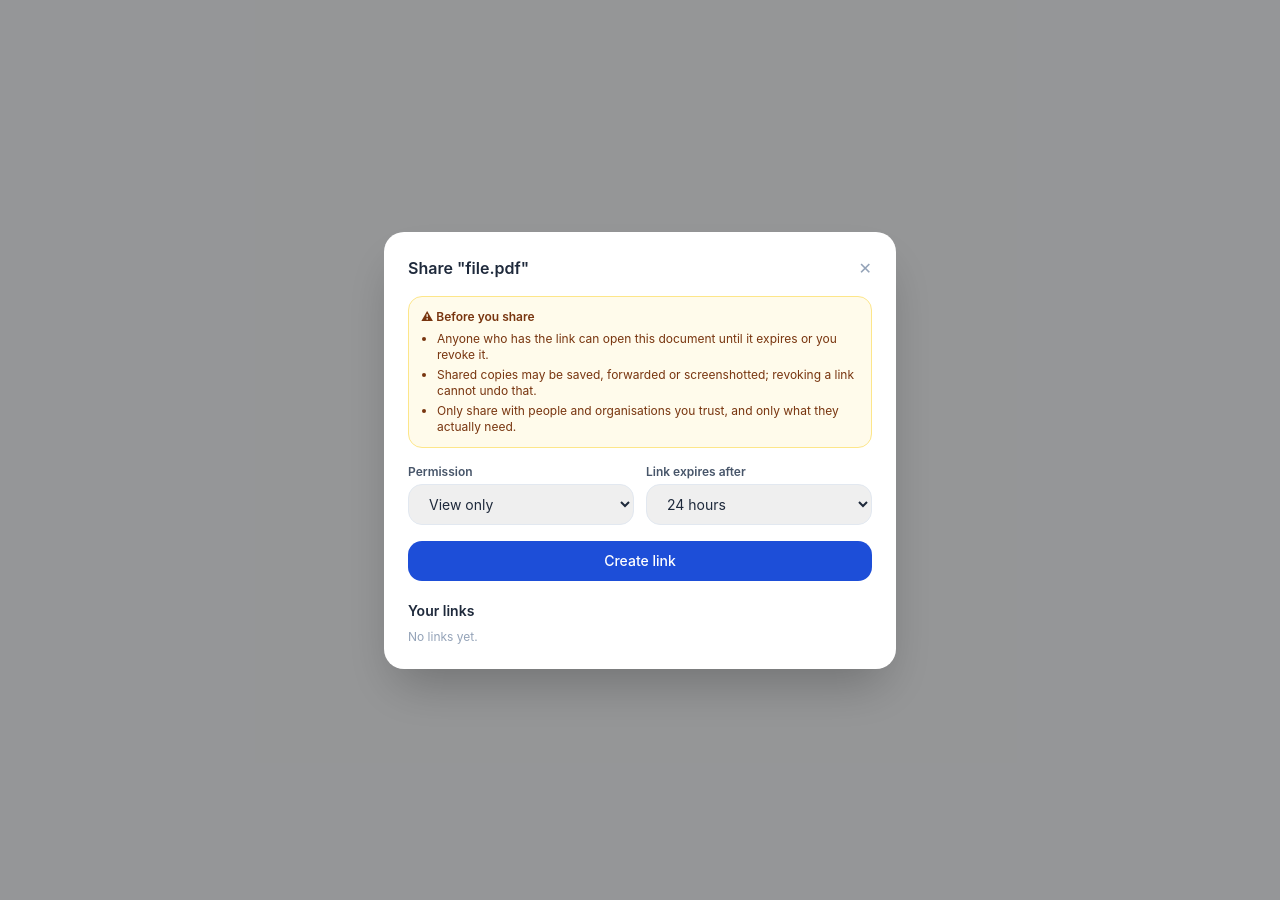
Test: ShareDialog › surfaces a server refusal
Click the button "Create link": (640, 560) [408,540,872,580]
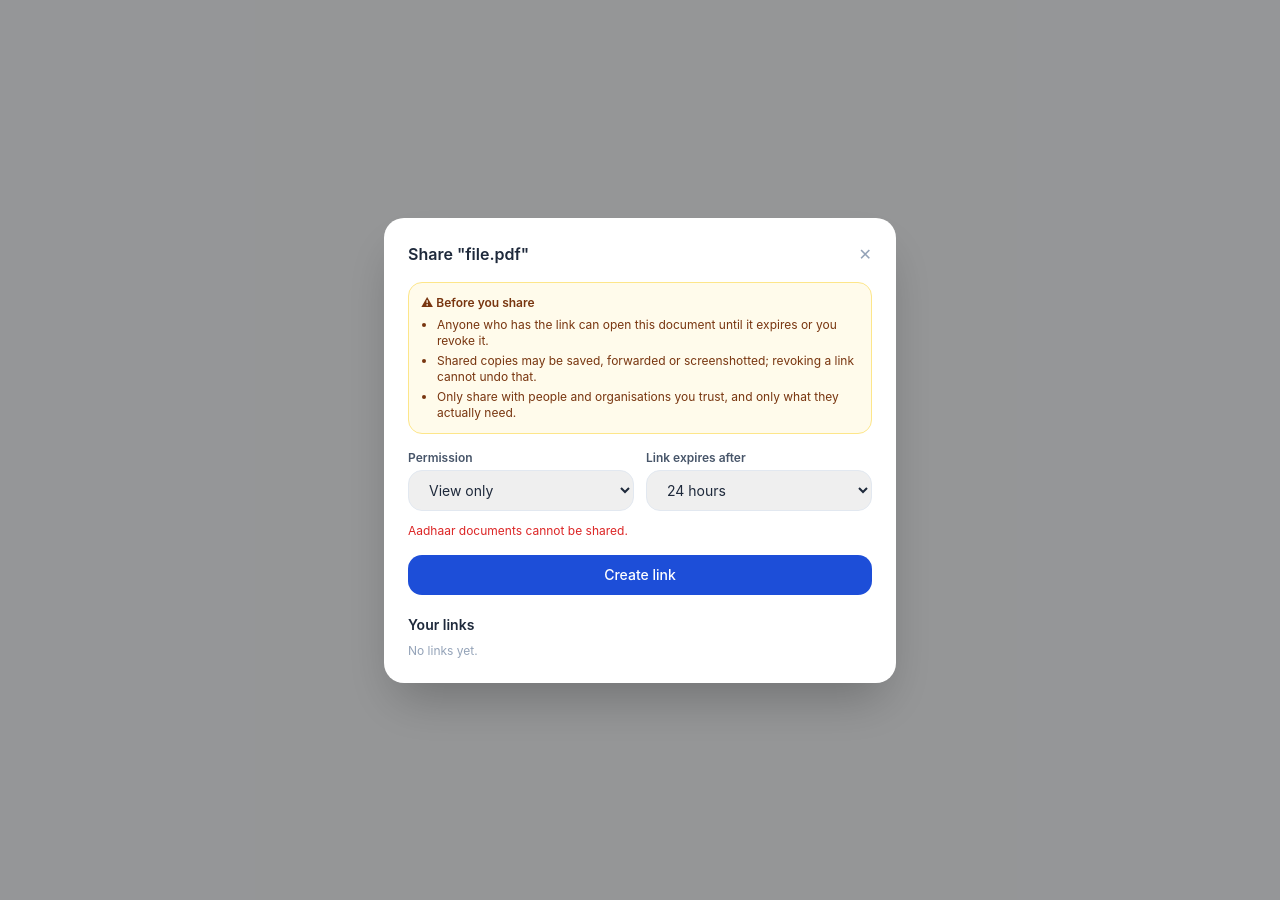
Expected: the message reads "Aadhaar documents cannot be shared.", [408,522,628,538]
